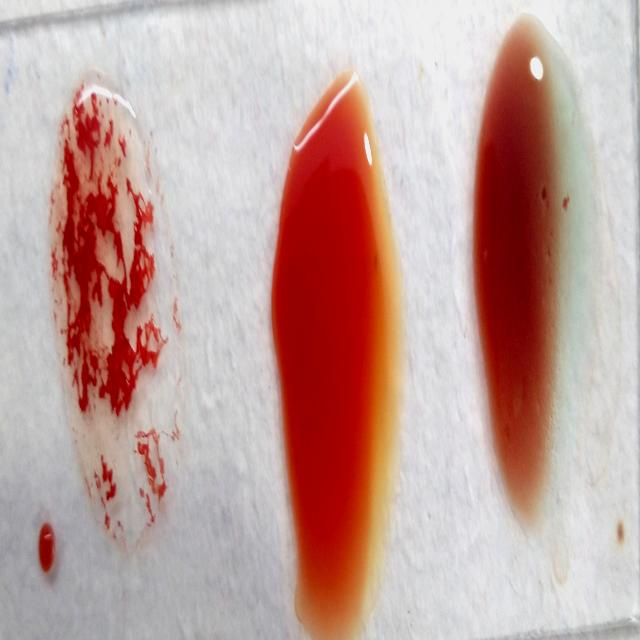D: (49, 84, 182, 556)
